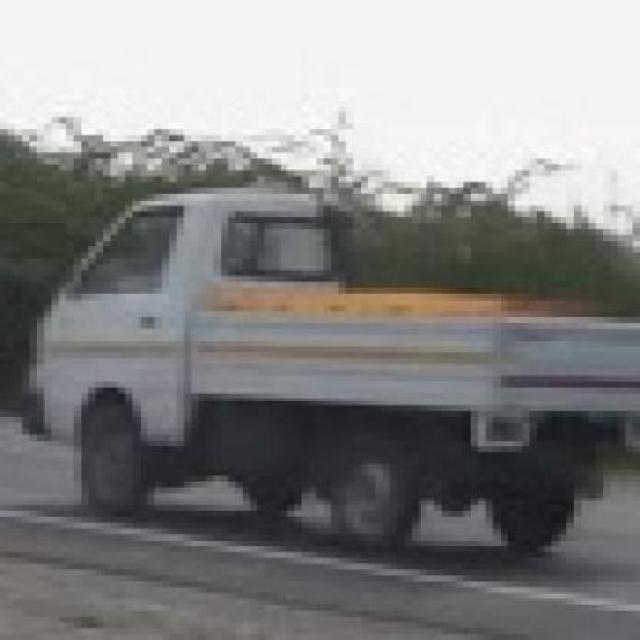vehicle: (15, 183, 633, 571)
